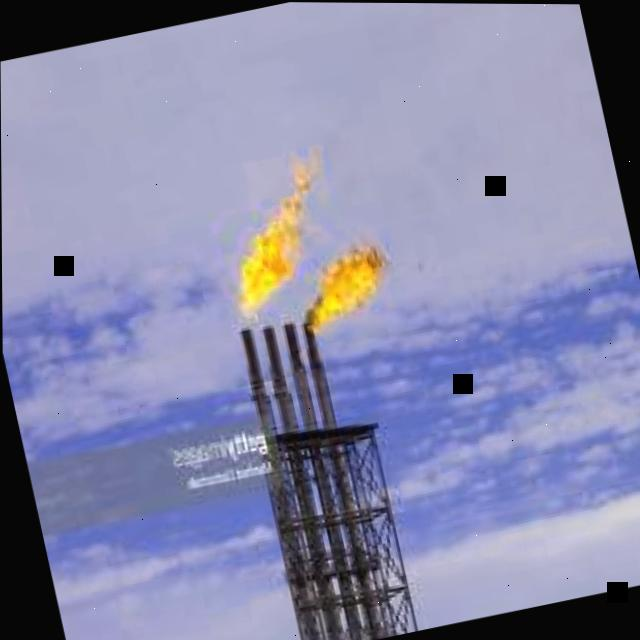fire: (238, 149, 316, 321), (305, 236, 391, 328)
